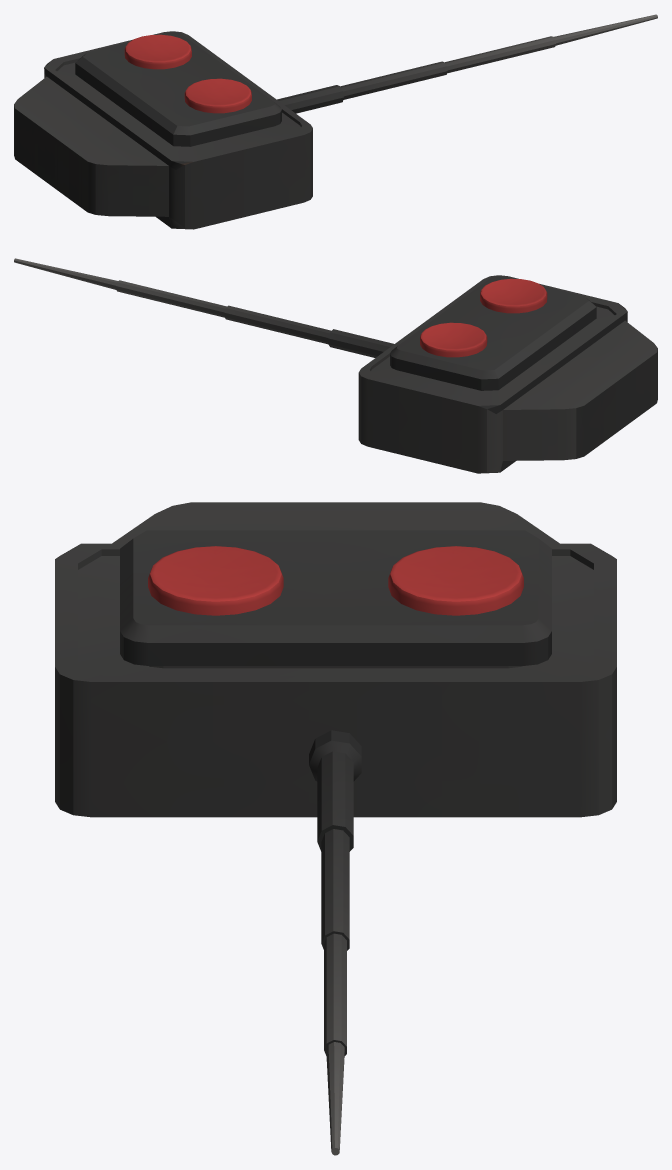
Rendered from carController.fbx.
The picture shows the model from 3 angles, top to bottom: view 1: azimuth 30°, elevation 25°; view 2: azimuth 150°, elevation 25°; view 3: azimuth 270°, elevation 25°; orthographic projection. The views are drawn at different scales.
Visible parts, largest first — view 1: controller; view 2: controller; view 3: controller.
Part boxes in pixels (x1,y1,x2,y2): controller: (14, 14, 657, 229); controller: (14, 258, 657, 473); controller: (55, 502, 616, 1155).
Bounding box in the file's own units: 3.87 × 0.5652 × 1.55.
Materials: 1 (1 with a texture image).
